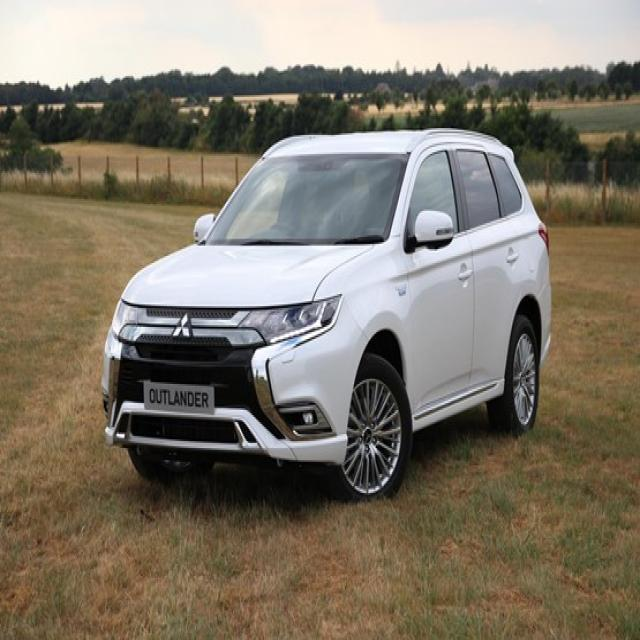light_vehicle: (100, 126, 553, 500)
